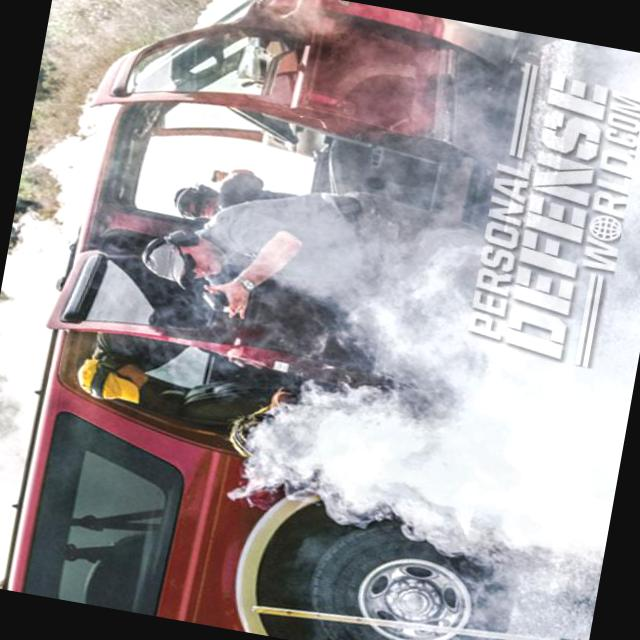handgun: (194, 288, 235, 314), (207, 168, 226, 184)
